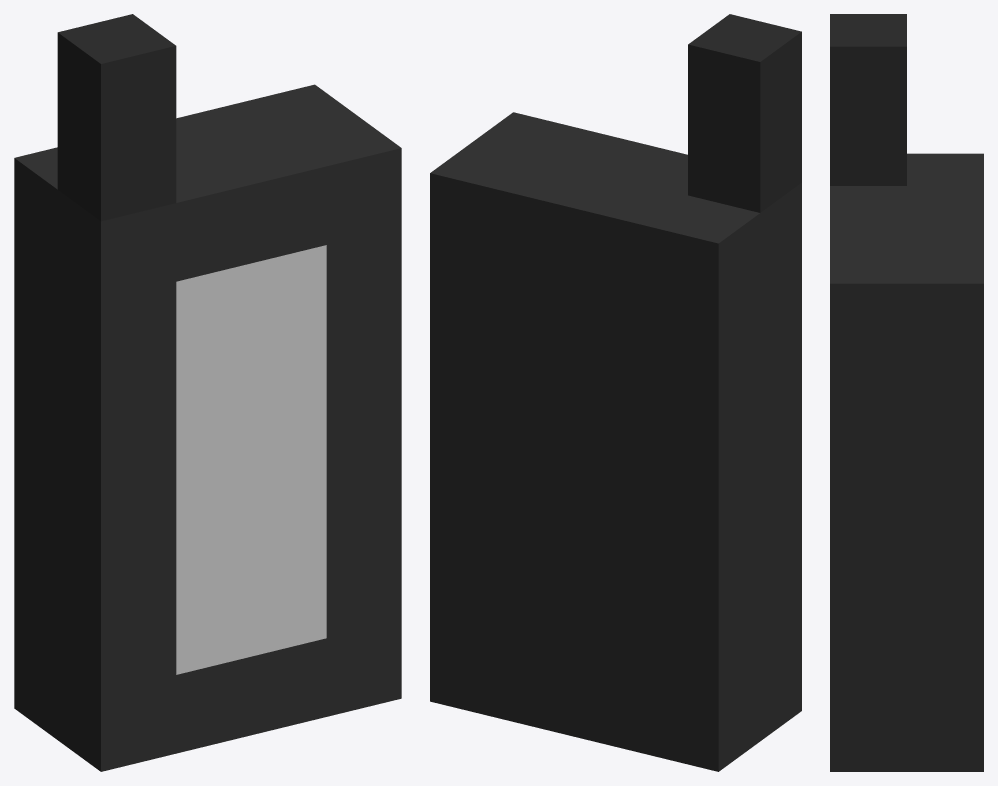
The model's file is Decor-8.obj.
3 renders of one model, left to right at view 1: azimuth 30°, elevation 25°; view 2: azimuth 150°, elevation 25°; view 3: azimuth 270°, elevation 25°, orthographic. The views are drawn at different scales.
Bounding box in the file's own units: 0.4 × 0.9 × 0.2.
Materials: 1 (1 with a texture image).
